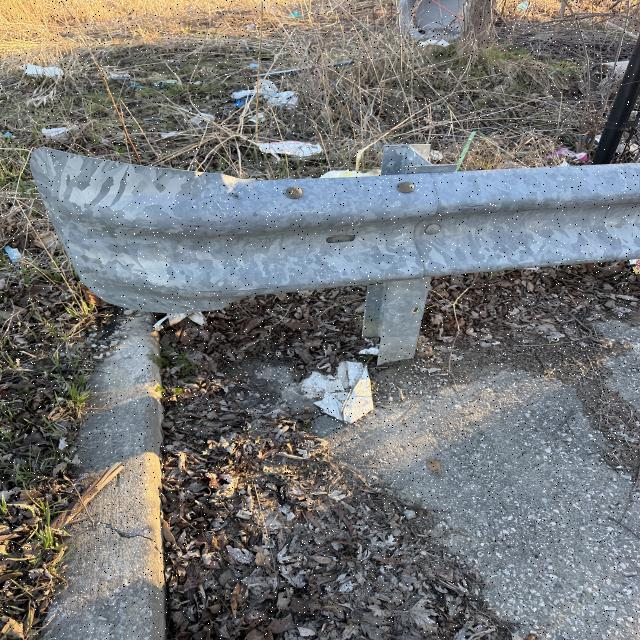Guard rail: (49, 157, 628, 306)
